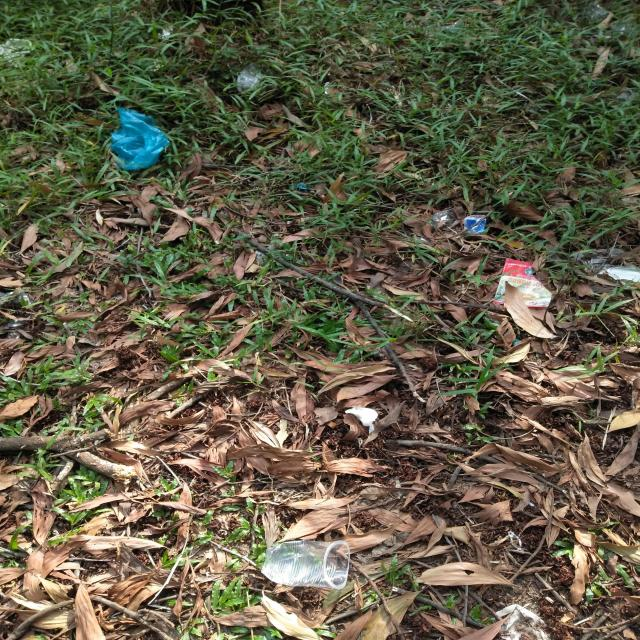litter: (260, 540, 350, 590), (111, 107, 170, 170), (494, 259, 553, 307), (572, 248, 637, 282), (590, 5, 629, 36), (0, 38, 33, 67), (432, 208, 457, 234), (237, 63, 262, 89), (464, 214, 486, 235), (158, 24, 175, 40), (444, 20, 463, 32), (292, 182, 307, 190), (324, 81, 330, 95)
